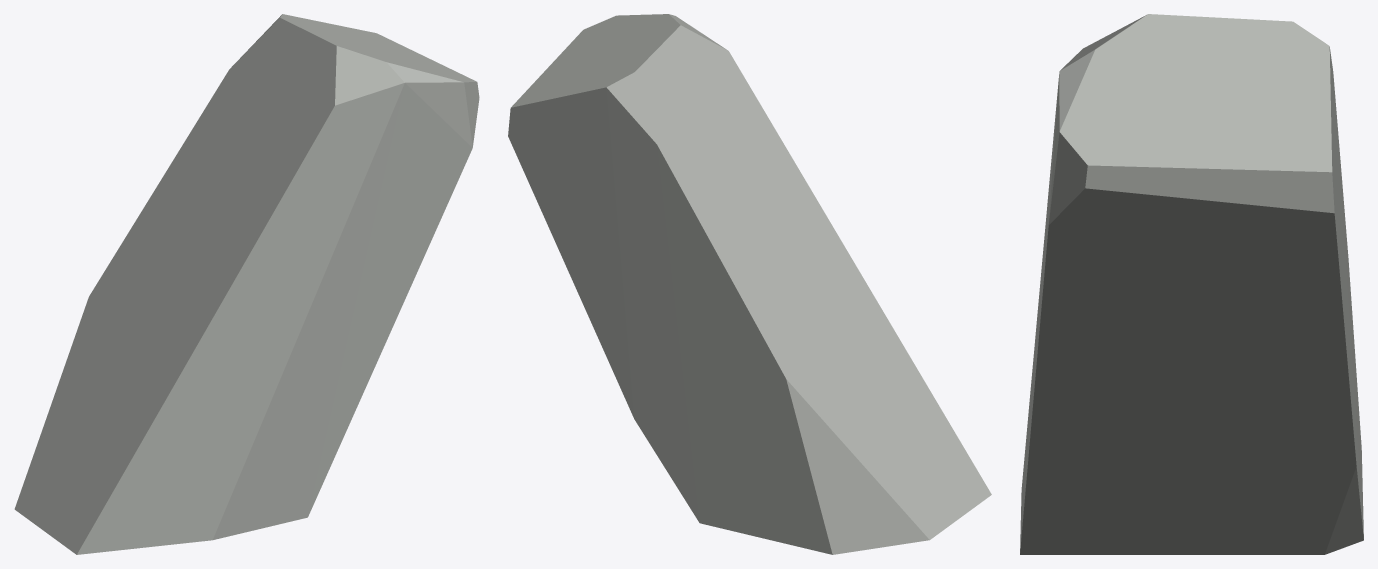
File: Rock_Square_l_05.fbx
3 views of the same model, side by side, from view 1: azimuth 30°, elevation 25°; view 2: azimuth 150°, elevation 25°; view 3: azimuth 270°, elevation 25° (orthographic). The views are drawn at different scales.
Visible parts, largest first — view 1: Rock_Square_l_05; view 2: Rock_Square_l_05; view 3: Rock_Square_l_05.
Boxes of the visible parts, x1,y1,x2,y2 form: Rock_Square_l_05: (14,14,479,554); Rock_Square_l_05: (508,14,991,554); Rock_Square_l_05: (1020,14,1363,554).
Size of the model in its own units: 338 by 334 by 176.
